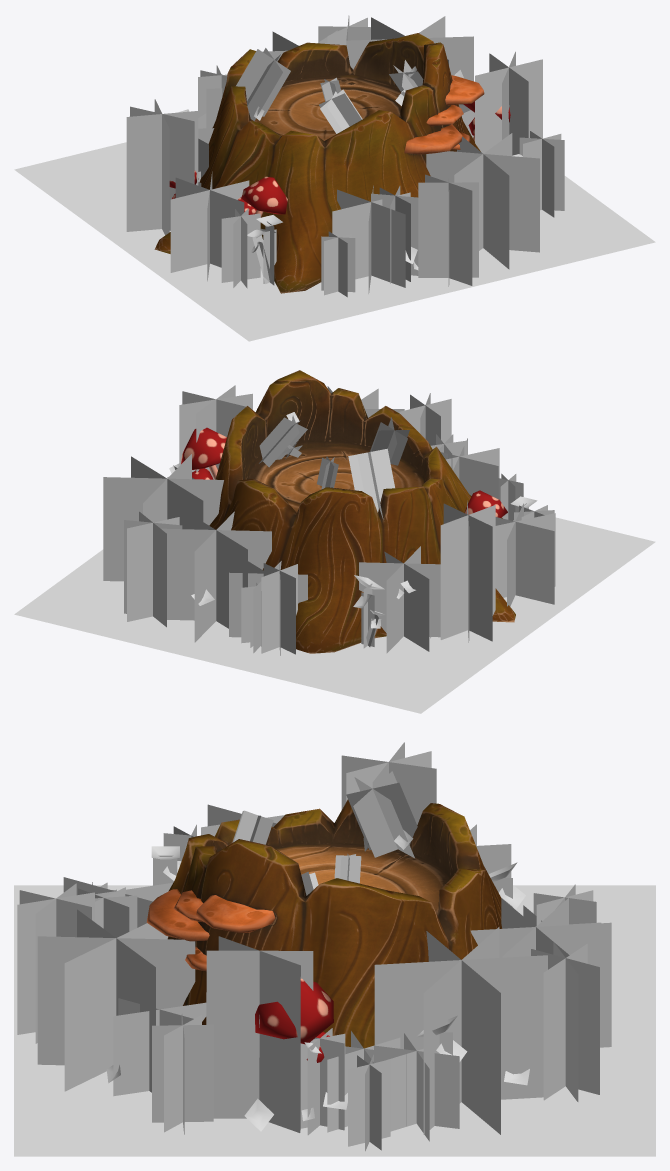
File: Stylized-Trunk.fbx
3 renders of one model, top to bottom at view 1: azimuth 30°, elevation 25°; view 2: azimuth 150°, elevation 25°; view 3: azimuth 270°, elevation 25°, orthographic. The views are drawn at different scales.
Visible parts, largest first — view 1: Trunk, Ground; view 2: Trunk, Ground; view 3: Trunk, Ground.
Boxes of the visible parts, box(x1,y1,x2,y2) form: Trunk: box(126, 15, 564, 297); Ground: box(14, 142, 655, 341); Trunk: box(103, 370, 555, 655); Ground: box(14, 517, 655, 713); Trunk: box(17, 742, 611, 1151); Ground: box(14, 885, 655, 1156).
Bounding box in the file's own units: 317 × 123 × 317.
